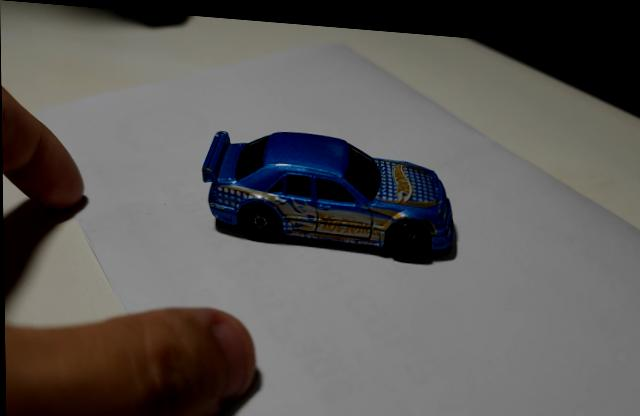04_MERZEDES: (202, 127, 457, 259)
